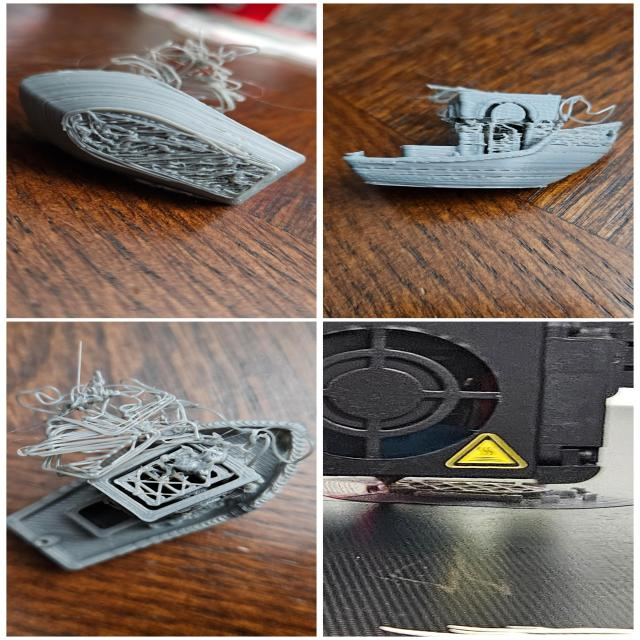spaghetti: (13, 335, 312, 483), (76, 28, 266, 114), (418, 75, 626, 128)
